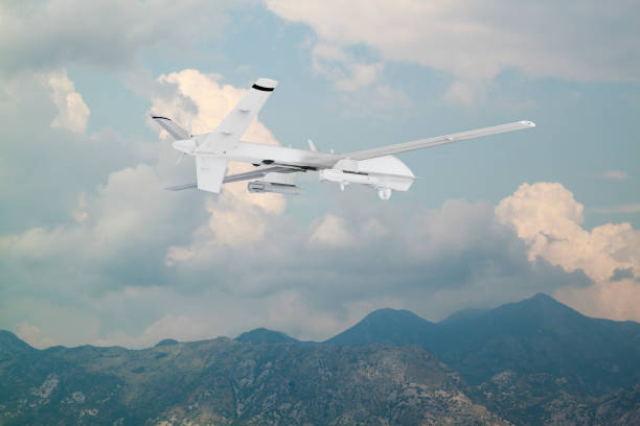military drone: (147, 77, 535, 199)
